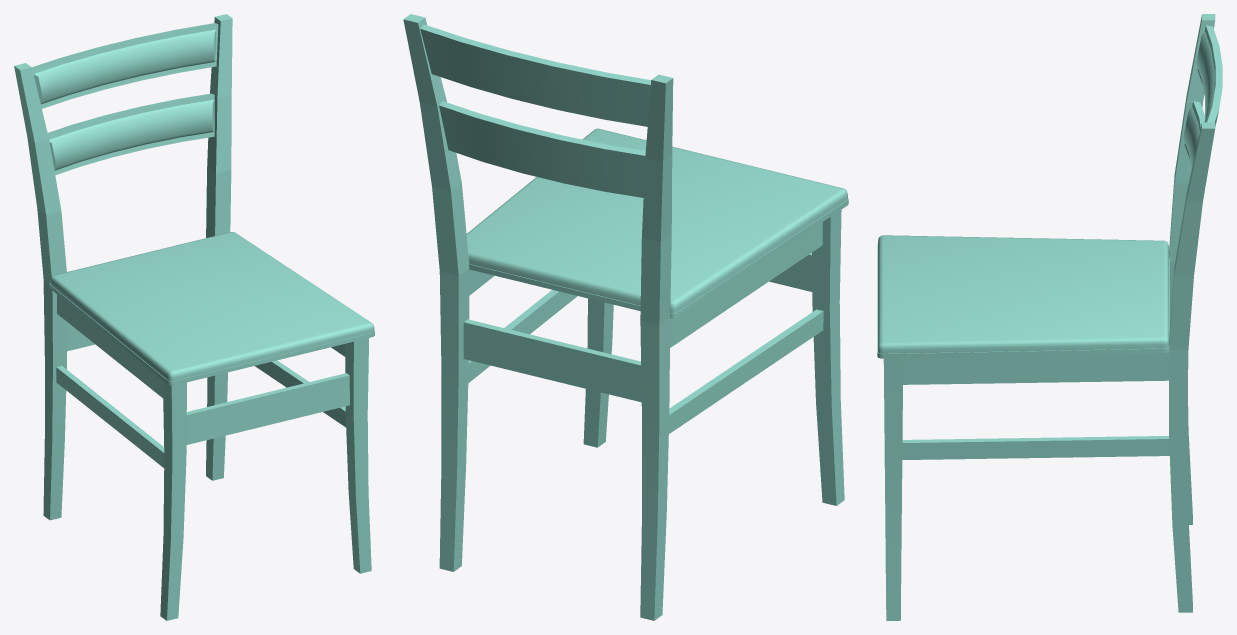
File: Chair.fbx
3 renders of one model, left to right at view 1: azimuth 30°, elevation 25°; view 2: azimuth 150°, elevation 25°; view 3: azimuth 270°, elevation 25°, orthographic. The views are drawn at different scales.
Visible parts, largest first — view 1: stul_001; view 2: stul_001; view 3: stul_001.
Part boxes in pixels (x1,y1,x2,y2): stul_001: [14, 14, 374, 620]; stul_001: [403, 14, 848, 620]; stul_001: [877, 14, 1222, 620].
Bounding box in the file's own units: 37.3 × 75 × 47.49.
